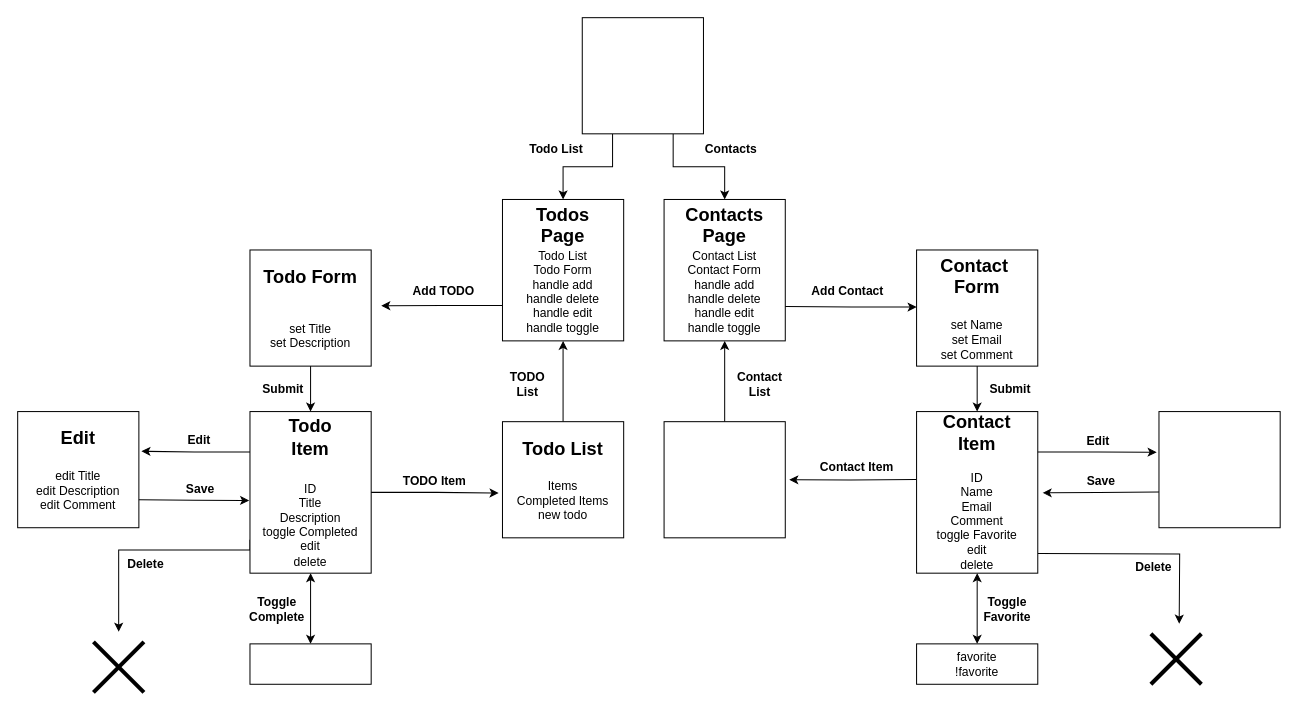
This 1298x713 diagram has some shape labels left out. The shapes that lost their labels are listed below. From the top down, each one's centre as x and y in pixels, then its label:
At pixel 642 75: "Navigation Bar".
At pixel 724 479: "Contact List Contacts Favorite Contacts new contact".
At pixel 1219 469: "Edit edit Name edit Email edit Comment".
At pixel 310 663: "Completed !Completed".
